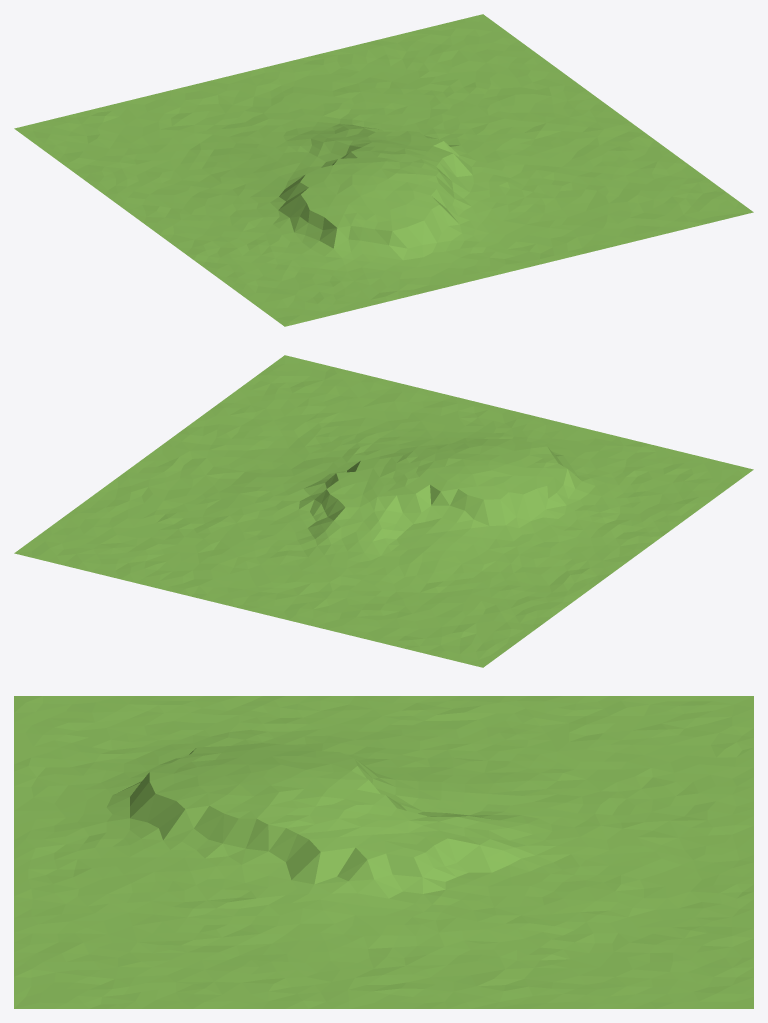
Rendered from MT_Terrain_L_d_16.fbx.
The picture shows the model from 3 angles, top to bottom: view 1: azimuth 30°, elevation 25°; view 2: azimuth 150°, elevation 25°; view 3: azimuth 270°, elevation 25°; orthographic projection. The views are drawn at different scales.
Visible parts, largest first — view 1: MT_Terrain_L_d_16; view 2: MT_Terrain_L_d_16; view 3: MT_Terrain_L_d_16.
Part boxes in pixels (left/top/right/bottom): MT_Terrain_L_d_16: left=14, top=14, right=753, bottom=326; MT_Terrain_L_d_16: left=14, top=355, right=753, bottom=667; MT_Terrain_L_d_16: left=14, top=696, right=753, bottom=1008.
Bounding box in the file's own units: 10000 × 650 × 10000.
